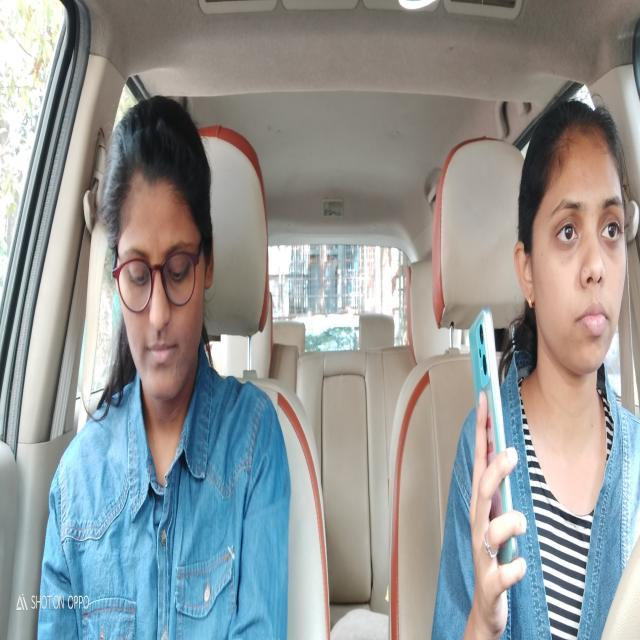mobile: (460, 307, 529, 574)
person: (94, 81, 220, 408), (508, 89, 632, 378)
